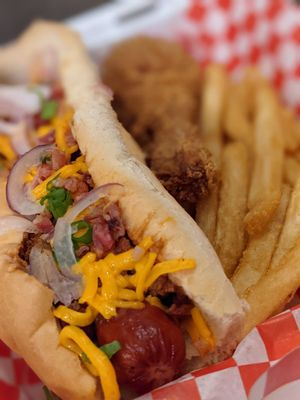soup: (0, 17, 253, 399)
